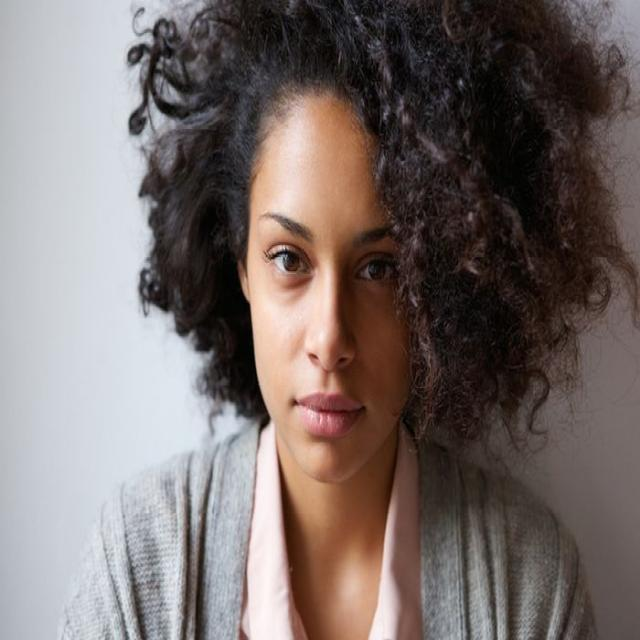sem_oculos: (228, 195, 433, 310)
